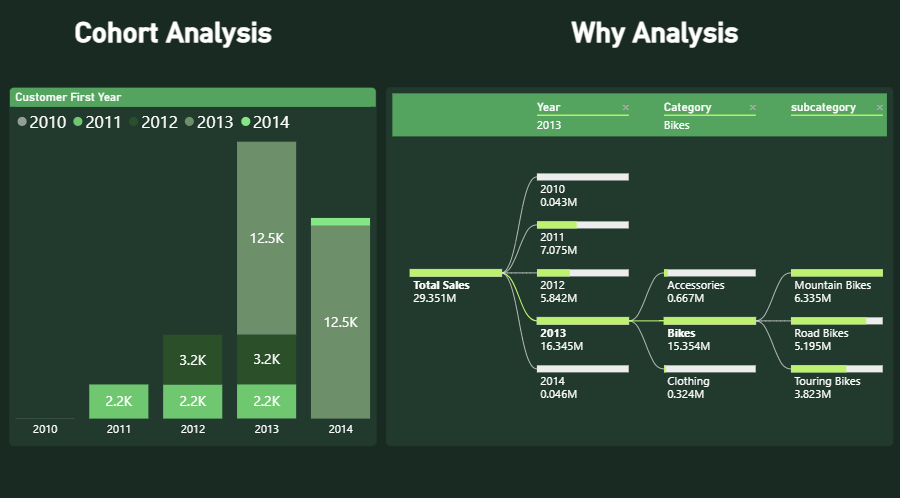

The dashboard page shown, as its layout file describes it:
{"tool":"powerbi","page":{"name":"Cohort & Why Analysis","canvas":[1280,720],"ordinal":1},"visuals":[{"type":"textbox","title":"Cohort Analysis","box":[0,28.6,497.2,80.6],"z":0},{"type":"textbox","title":"Why Analysis","box":[703.8,28.6,453.5,94.1],"z":1000},{"type":"columnChart","title":"Customer First Year","fields":{"Category":["calender.Date.Variation.Date Hierarchy.Year","calender.Date.Variation.Date Hierarchy.Quarter","calender.Date.Variation.Date Hierarchy.Month","calender.Date.Variation.Date Hierarchy.Day"],"Y":["CountNonNull(dim_customers.customer_sk)"],"Series":["dim_customers.Customer First Year"]},"box":[15.1,129.3,520.7,509],"z":2000},{"type":"decompositionTreeVisual","fields":{"Analyze":["_measures.total sales"],"ExplainBy":["calender.Date.Variation.Date Hierarchy.Year","dim_products.category","dim_products.subcategory"]},"box":[549.3,129.3,719,509],"z":3000}]}

Visuals, with their boxes in screenshot pixels (x1, y1, x2, y2), scaled from the page's 1280x720 canvas onto the 900x498 screenshot:
"Cohort Analysis" textbox: left=0, top=20, right=350, bottom=76
"Why Analysis" textbox: left=495, top=20, right=814, bottom=85
"Customer First Year" columnChart: left=11, top=89, right=377, bottom=441
decompositionTreeVisual - _measures.total sales x calender.Date.Variation.Date Hierarchy.Year: left=386, top=89, right=892, bottom=441
